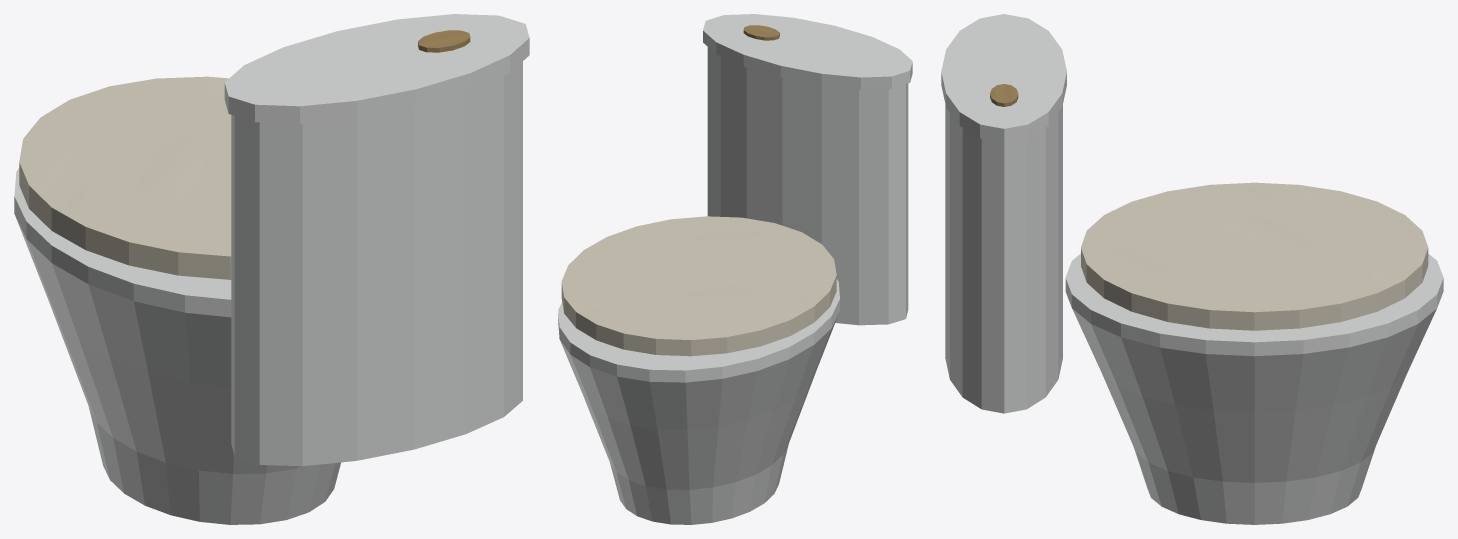
The model's file is AST-SAN-002.glb.
3 renders of one model, left to right at view 1: azimuth 30°, elevation 25°; view 2: azimuth 150°, elevation 25°; view 3: azimuth 270°, elevation 25°, orthographic. The views are drawn at different scales.
Visible parts, largest first — view 1: AST-SAN-002_fixed_porcelain, AST-SAN-002_moving_ivory_enamel, AST-SAN-002_fixed_champagne_metal; view 2: AST-SAN-002_fixed_porcelain, AST-SAN-002_moving_ivory_enamel, AST-SAN-002_fixed_champagne_metal; view 3: AST-SAN-002_fixed_porcelain, AST-SAN-002_moving_ivory_enamel.
Boxes of the visible parts, left/top/right/bottom form: AST-SAN-002_fixed_porcelain: left=14, top=14, right=529, bottom=524; AST-SAN-002_moving_ivory_enamel: left=19, top=76, right=231, bottom=279; AST-SAN-002_fixed_champagne_metal: left=418, top=30, right=470, bottom=52; AST-SAN-002_fixed_porcelain: left=558, top=14, right=912, bottom=524; AST-SAN-002_moving_ivory_enamel: left=561, top=216, right=836, bottom=356; AST-SAN-002_fixed_champagne_metal: left=743, top=25, right=779, bottom=40; AST-SAN-002_fixed_porcelain: left=941, top=14, right=1443, bottom=524; AST-SAN-002_moving_ivory_enamel: left=1081, top=182, right=1428, bottom=330.
Size of the model in its own units: 0.6 by 0.908 by 0.983.
Materials: 3 (2 with a texture image).
